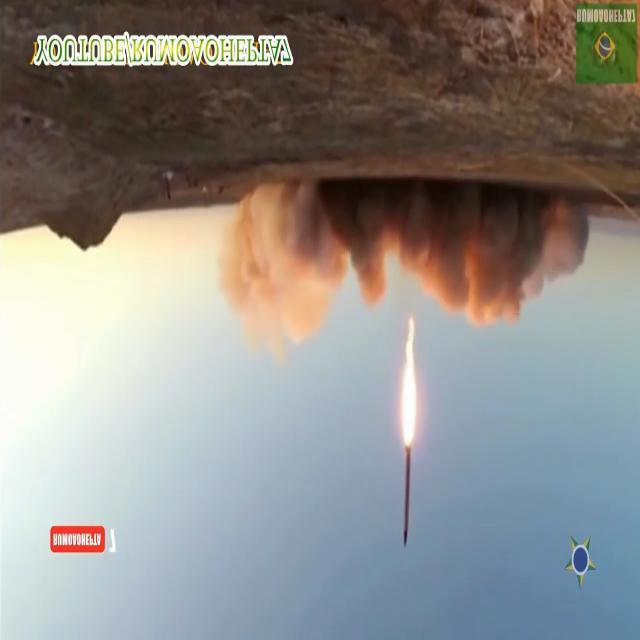missile: (399, 434, 415, 558)
